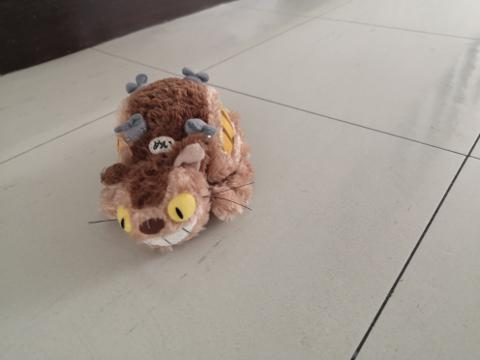nekobus: (87, 58, 259, 261)
